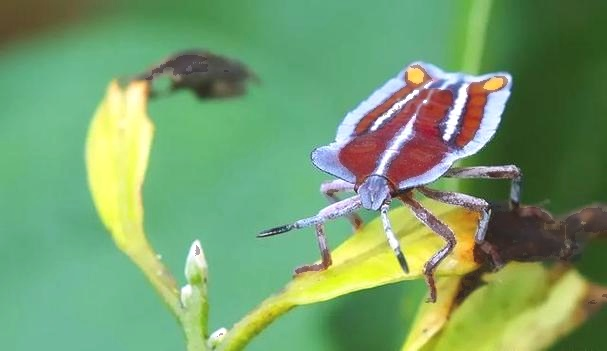Stink_Bug: (313, 65, 509, 258)
